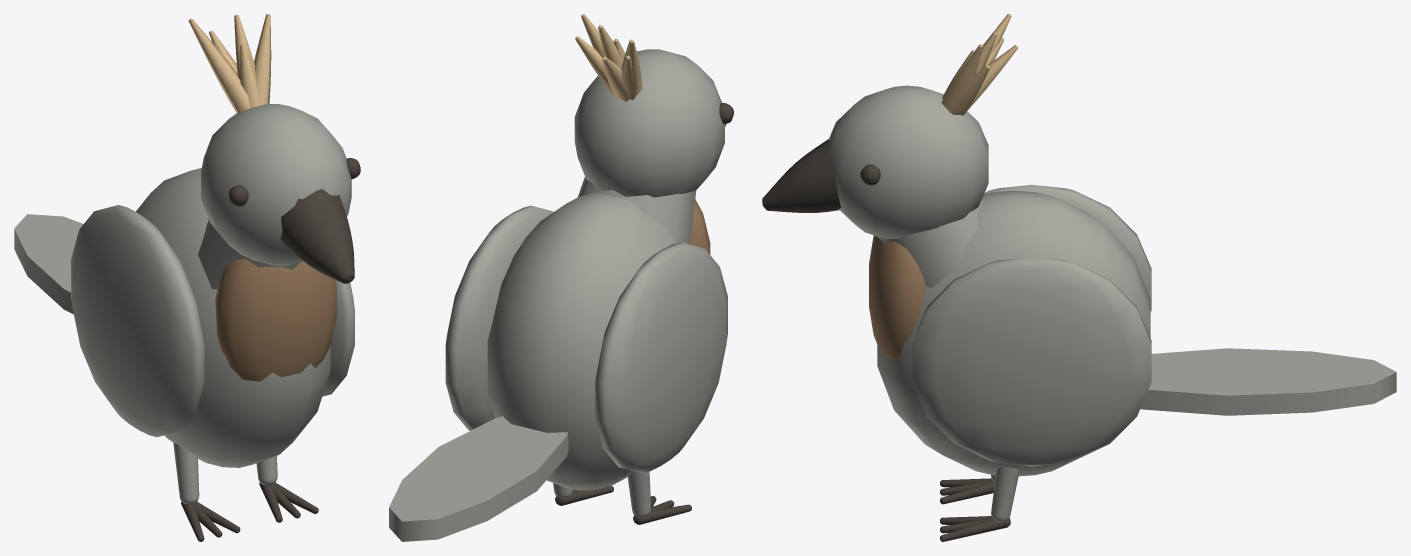
File: rainforest-and-jungle-fauna-hoatzin-e75ab086__21688.glb
3 renders of one model, left to right at view 1: azimuth 30°, elevation 25°; view 2: azimuth 150°, elevation 25°; view 3: azimuth 270°, elevation 25°, orthographic.
Visible parts, largest first — view 1: hoatzin; view 2: hoatzin; view 3: hoatzin.
Boxes of the visible parts, left/top/right/bottom form: hoatzin: left=14, top=14, right=360, bottom=541; hoatzin: left=389, top=14, right=733, bottom=541; hoatzin: left=762, top=14, right=1396, bottom=541.
Bounding box in the file's own units: 0.2179 × 0.5053 × 0.6.
